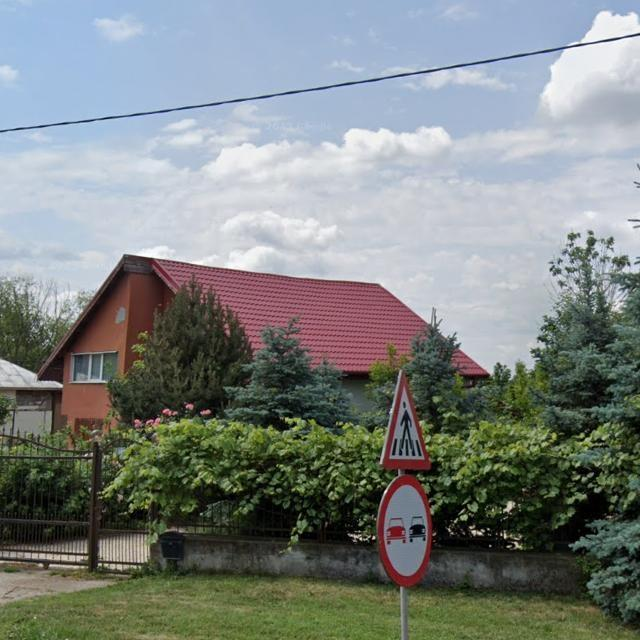forb_overtake: (375, 472, 433, 586)
warn_crosswalk: (379, 368, 431, 470)
